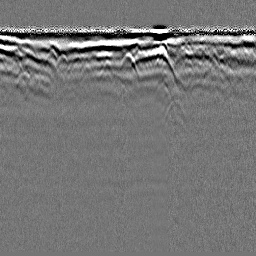cavity: (119, 50, 140, 75)
